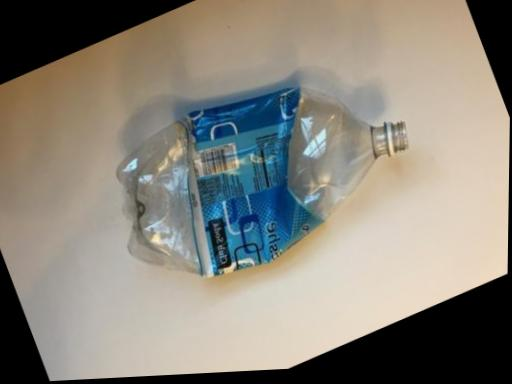plastic: (84, 27, 436, 320)
